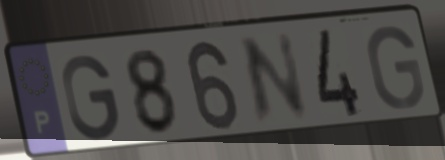4: (315, 27, 363, 121)
6: (184, 38, 242, 134)
8: (123, 46, 182, 138)
G: (59, 51, 122, 144), (364, 22, 427, 113)
N: (237, 29, 312, 131)
